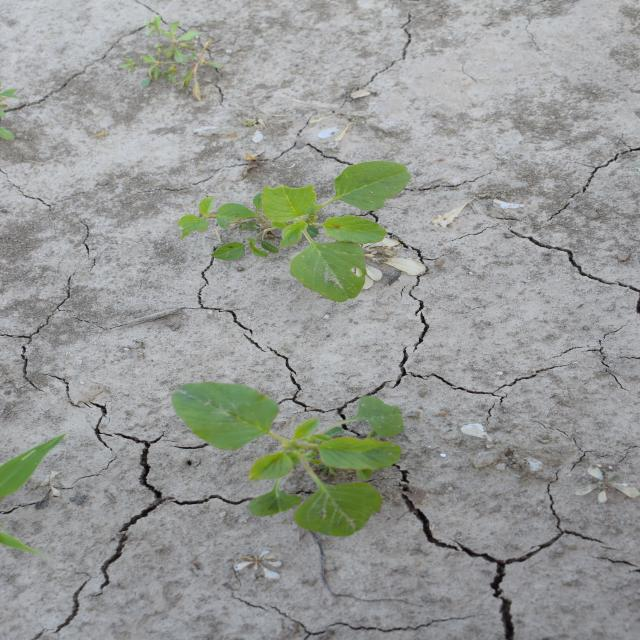Carpetweed: (107, 15, 227, 103)
PalmerAmaranth: (168, 380, 410, 540), (175, 159, 412, 305)
